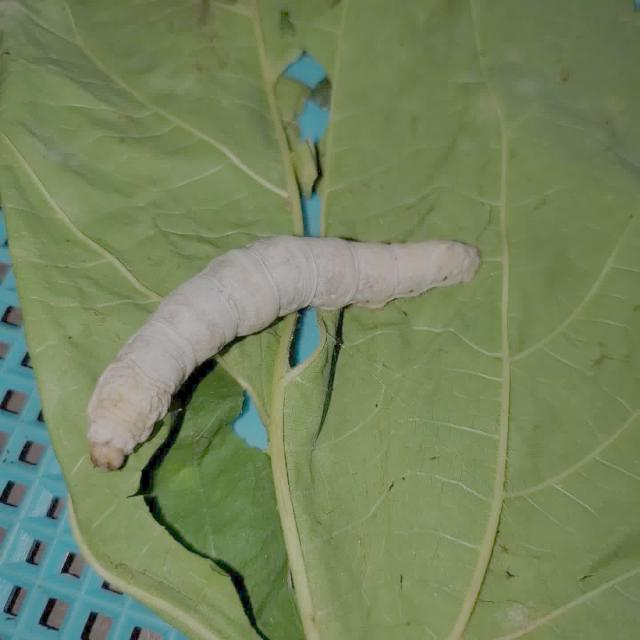Grasserie: (75, 204, 489, 478)
